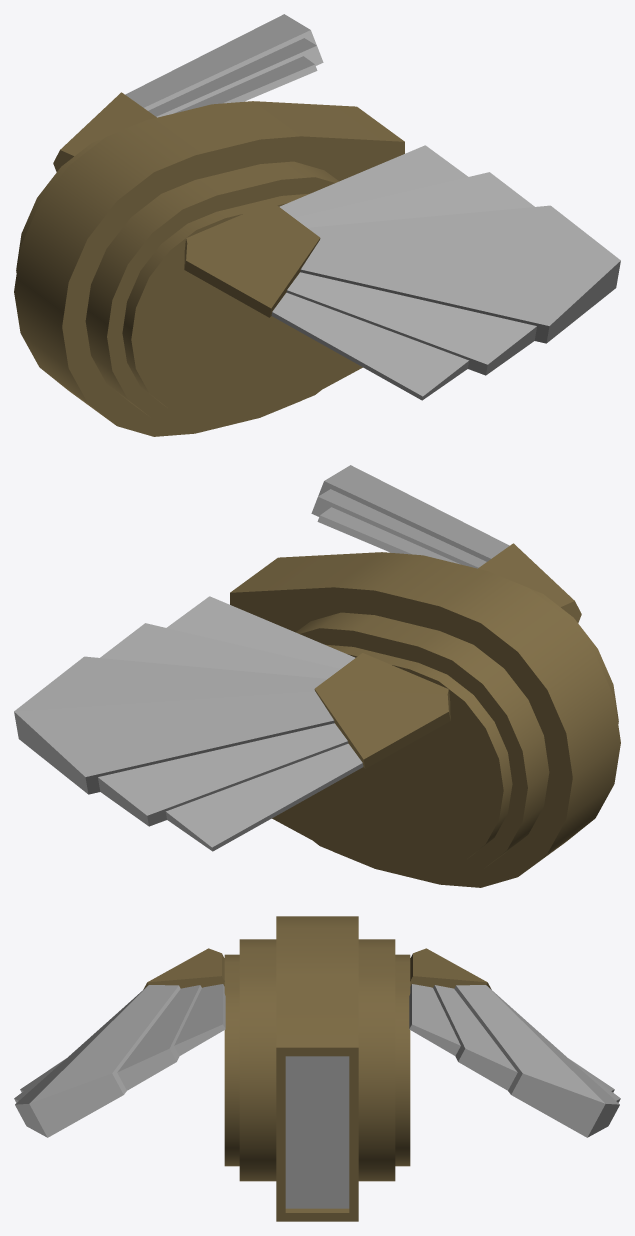
Rendered from CH_Ship_Snitch_Short_Test.fbx.
3 views of the same model, one above another, from view 1: azimuth 30°, elevation 25°; view 2: azimuth 150°, elevation 25°; view 3: azimuth 270°, elevation 25° (orthographic). The views are drawn at different scales.
Visible parts, largest first — view 1: CH_Ship_Snitch_Short_Test; view 2: CH_Ship_Snitch_Short_Test; view 3: CH_Ship_Snitch_Short_Test.
Part boxes in pixels (x1,y1,x2,y2): CH_Ship_Snitch_Short_Test: (14,14,620,436); CH_Ship_Snitch_Short_Test: (14,465,620,887); CH_Ship_Snitch_Short_Test: (14,916,620,1221).
Bounding box in the file's own units: 106 × 66.76 × 154.
